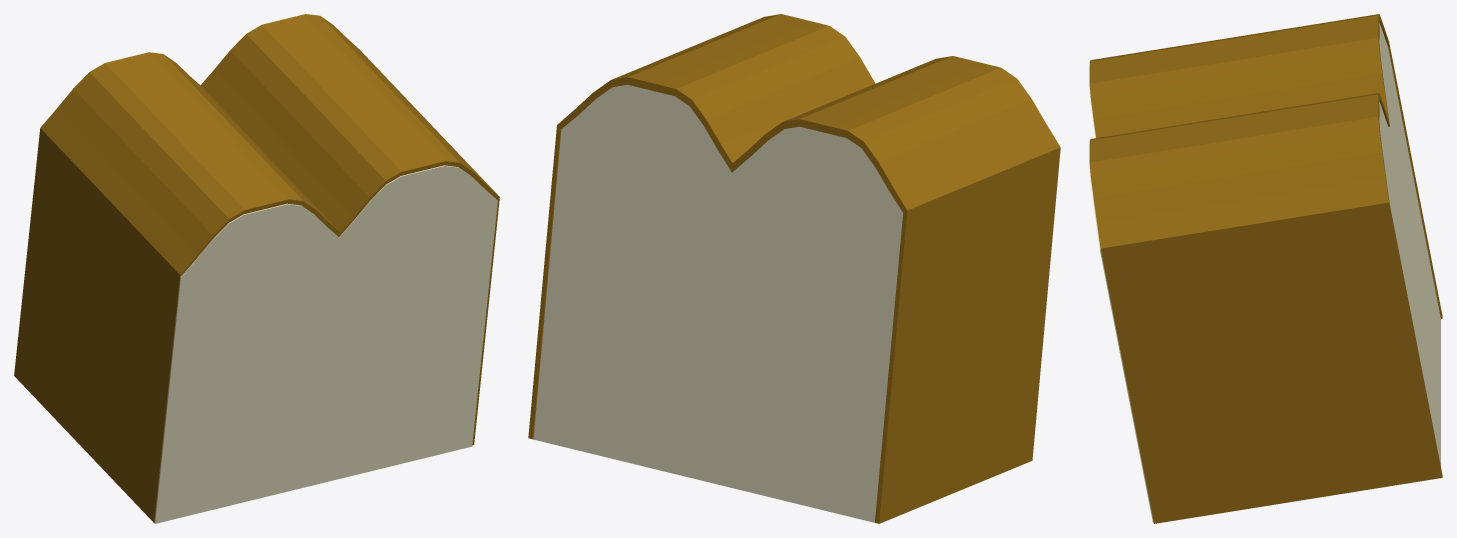
Rendered from Bread01.fbx.
3 views of the same model, side by side, from view 1: azimuth 30°, elevation 25°; view 2: azimuth 150°, elevation 25°; view 3: azimuth 270°, elevation 25° (orthographic). The views are drawn at different scales.
Visible parts, largest first — view 1: Sandwich-skin.001; view 2: Sandwich-skin.001; view 3: Sandwich-skin.001.
Boxes of the visible parts, x1,y1,x2,y2 form: Sandwich-skin.001: (14, 14, 499, 523); Sandwich-skin.001: (528, 14, 1060, 523); Sandwich-skin.001: (1089, 14, 1442, 523).
Size of the model in its own units: 18.74 by 20.51 by 17.37.
